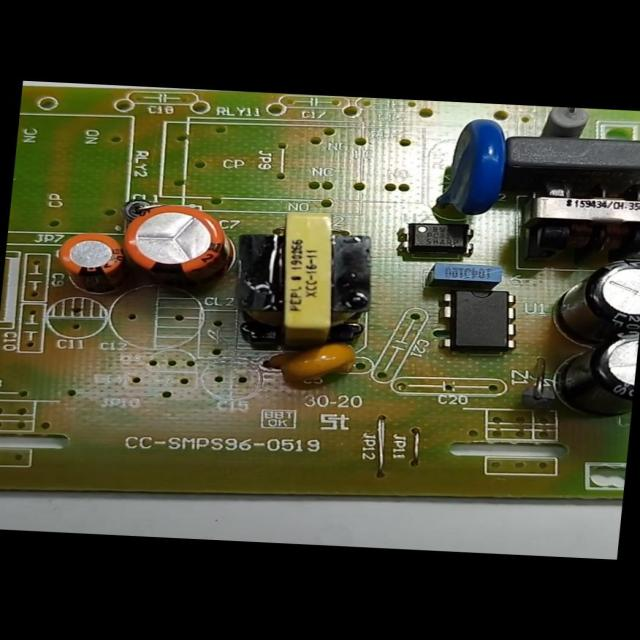Cap1: (117, 197, 238, 293)
Cap2: (49, 225, 138, 297)
Cap3: (546, 249, 639, 349)
Cap4: (538, 319, 640, 423)
MOSFET: (434, 279, 525, 357)
Mov: (429, 111, 516, 228)
Resistor: (536, 106, 598, 140)
Transformer: (225, 204, 382, 358), (509, 173, 639, 269)
